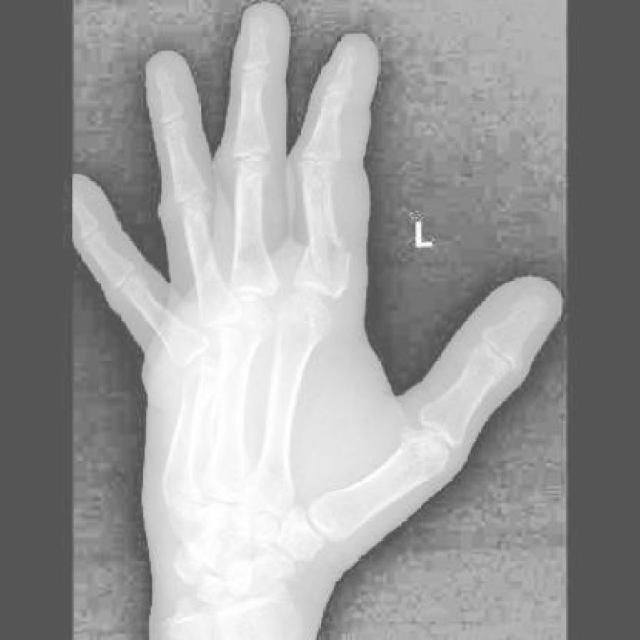Fracture: (297, 231, 357, 300)
